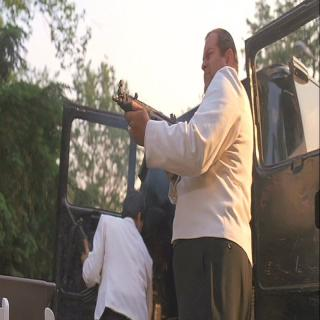gun: (105, 76, 195, 202)
